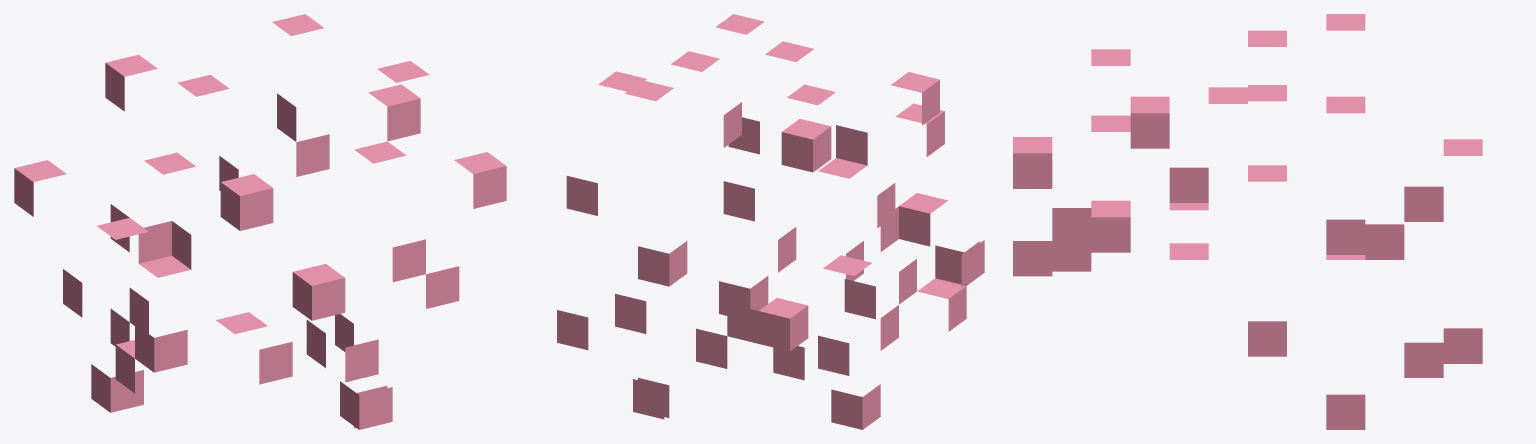
Rendered from tree-cherry-0p9-pink1-ff9dbb.gltf.
3 views of the same model, side by side, from view 1: azimuth 30°, elevation 25°; view 2: azimuth 150°, elevation 25°; view 3: azimuth 270°, elevation 25° (orthographic). The views are drawn at different scales.
Visible parts, largest first — view 1: tree-cherry-0p9-pink1-ff9dbb; view 2: tree-cherry-0p9-pink1-ff9dbb; view 3: tree-cherry-0p9-pink1-ff9dbb.
Part boxes in pixels (x1=…): tree-cherry-0p9-pink1-ff9dbb: x1=14, y1=14, x2=506, y2=429; tree-cherry-0p9-pink1-ff9dbb: x1=557, y1=14, x2=984, y2=429; tree-cherry-0p9-pink1-ff9dbb: x1=1013, y1=14, x2=1482, y2=429.
Size of the model in its own units: 13 by 9 by 13.
